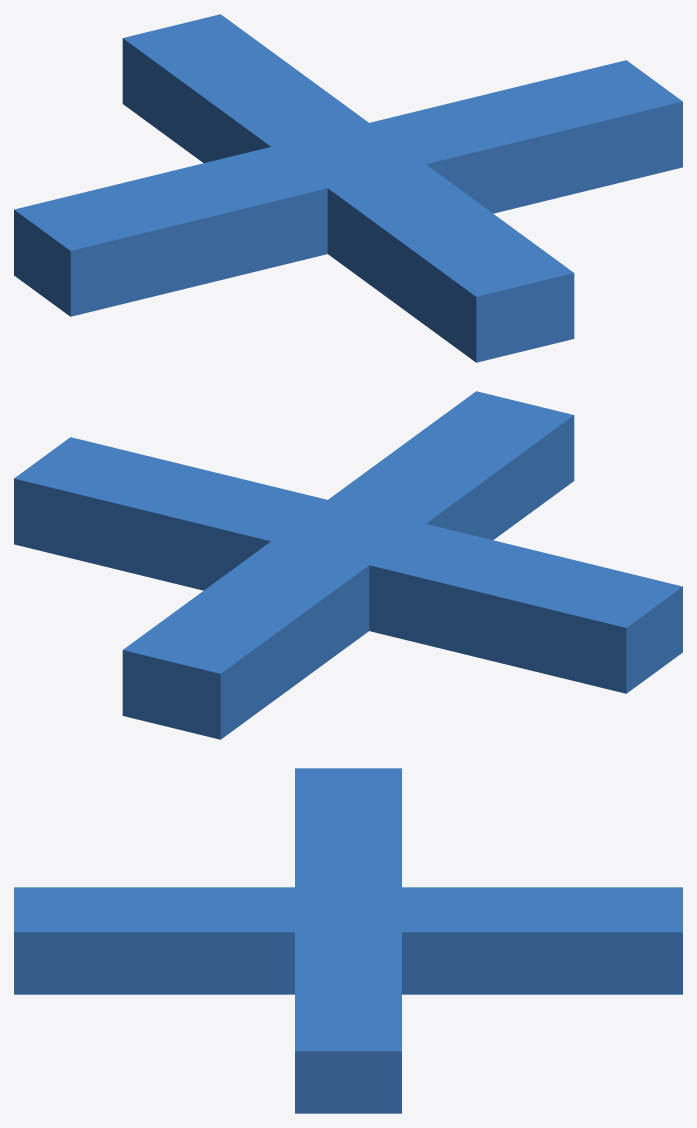
File: aquaduct_fourway_water.fbx
The picture shows the model from 3 angles, top to bottom: view 1: azimuth 30°, elevation 25°; view 2: azimuth 150°, elevation 25°; view 3: azimuth 270°, elevation 25°; orthographic projection. The views are drawn at different scales.
Parts seen in each view (by area): view 1: polySurface295; view 2: polySurface295; view 3: polySurface295.
Boxes of the visible parts, bbox=[...] form: polySurface295: bbox=[14, 14, 682, 362]; polySurface295: bbox=[14, 391, 682, 739]; polySurface295: bbox=[14, 768, 682, 1113].
Size of the model in its own units: 100 by 10.28 by 100.
1 material, 1 textured.
